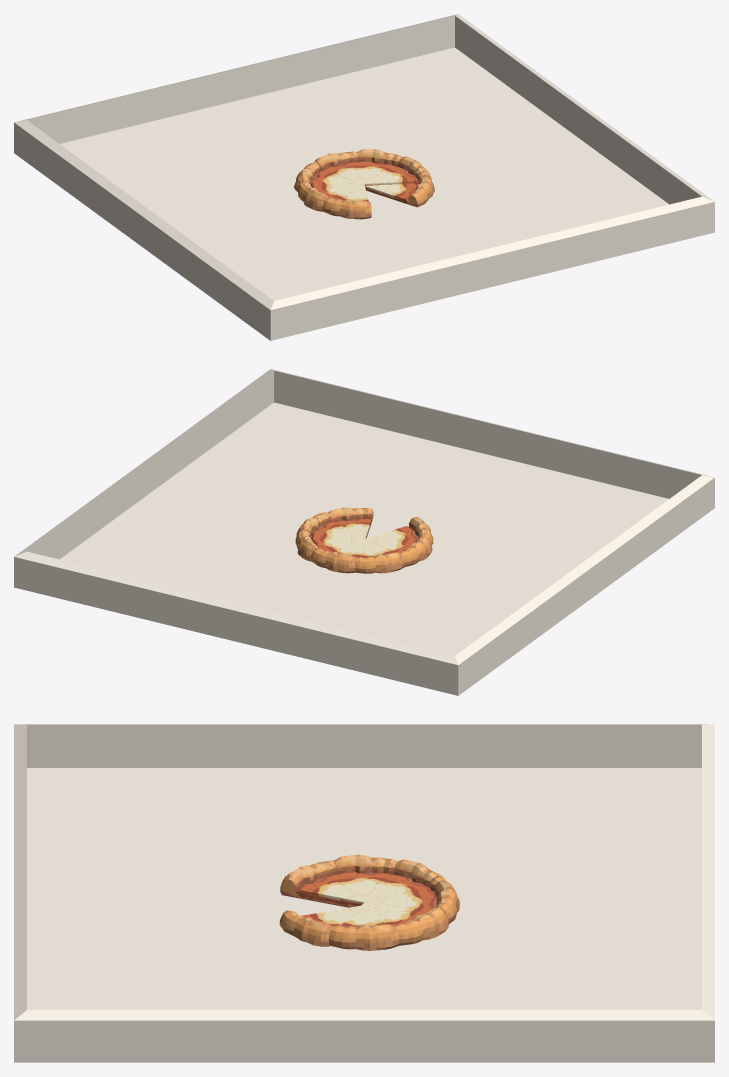
The picture shows the model from 3 angles, top to bottom: view 1: azimuth 30°, elevation 25°; view 2: azimuth 150°, elevation 25°; view 3: azimuth 270°, elevation 25°; orthographic projection. The views are drawn at different scales.
Parts seen in each view (by area): view 1: Cube, Cylinder.003, Cylinder.007, Cylinder.002, Cylinder.001, Cylinder.005, Cylinder.006, Cylinder.004; view 2: Cube, Cylinder.004, Cylinder.006, Cylinder.005, Cylinder.003, Cylinder.001, Cylinder.002, Cylinder.007; view 3: Cube, Cylinder.007, Cylinder.002, Cylinder.001, Cylinder.005, Cylinder.003, Cylinder.004, Cylinder.006.
Boxes of the visible parts, box(x1,y1,x2,y2) form: Cube: box(14, 14, 714, 340); Cylinder.003: box(365, 176, 434, 207); Cylinder.007: box(322, 184, 371, 219); Cylinder.002: box(364, 156, 431, 185); Cylinder.001: box(357, 149, 402, 183); Cylinder.005: box(297, 181, 363, 211); Cylinder.006: box(314, 151, 364, 183); Cylinder.004: box(294, 162, 363, 191); Cube: box(14, 369, 714, 695); Cylinder.004: box(355, 539, 404, 573); Cylinder.006: box(311, 539, 364, 573); Cylinder.005: box(365, 536, 432, 567); Cylinder.003: box(328, 507, 373, 538); Cylinder.001: box(295, 529, 363, 561); Cylinder.002: box(296, 512, 363, 538); Cylinder.007: box(365, 517, 433, 545); Cube: box(14, 724, 714, 1062); Cylinder.007: box(280, 860, 364, 907); Cylinder.002: box(328, 902, 398, 950); Cylinder.001: box(365, 902, 448, 945); Cylinder.005: box(333, 854, 397, 901); Cylinder.003: box(279, 905, 360, 946); Cylinder.004: box(365, 859, 445, 901); Cylinder.006: box(365, 880, 459, 923).
Size of the model in its own units: 1184 by 87.86 by 1184.
